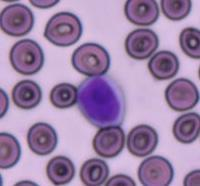L: (74, 72, 126, 128)
